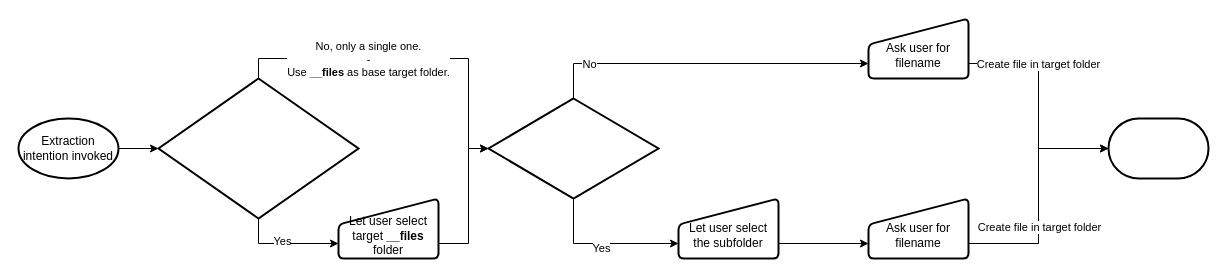
Some shapes in this 1226 by 276 pixel diagram are drawn without their labels. Here are the shapes that lost their labels. From the top down, the centre of each, then its label:
the point at 258,148: Are there multiple __files folders in the project?
the point at 573,148: Is there a subfolder in the target __files folder?
the point at 1158,148: Response body extracted
